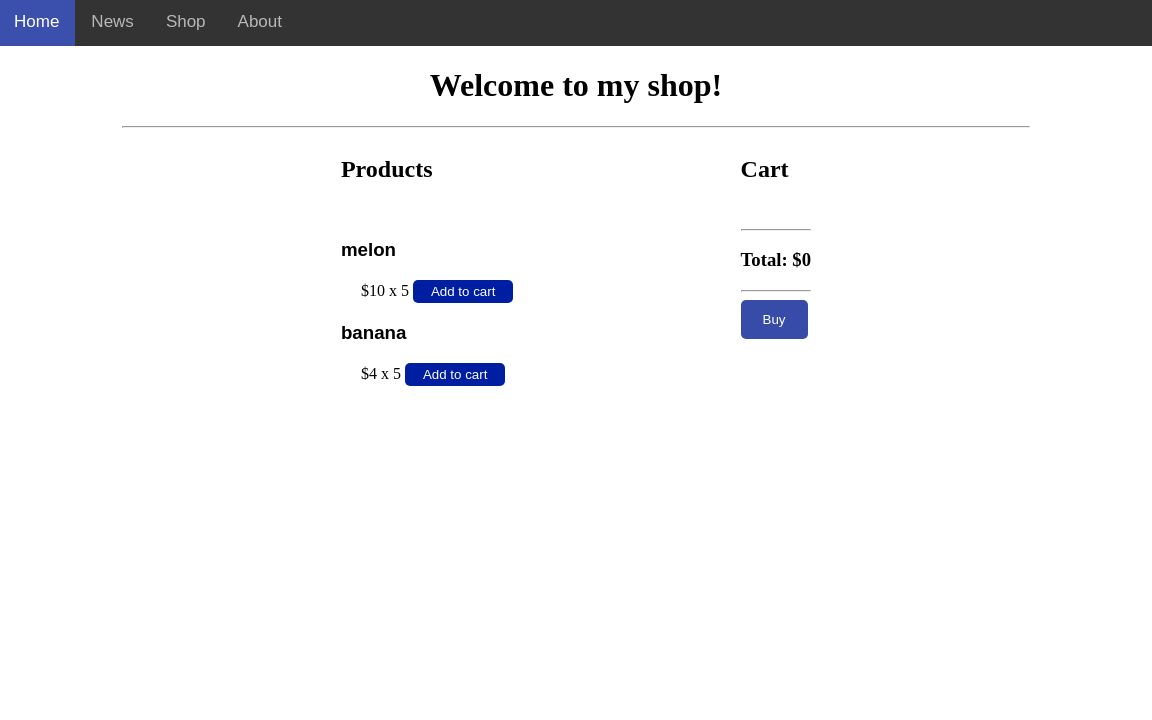
Scenario: Shop › Can buy from shop
The width and height of the screenshot is (1152, 720).
Step 1. Click the button with class "addToCartBtn" in the row of "10" → x=464, y=292, box x1=413 y1=280 x2=514 y2=303
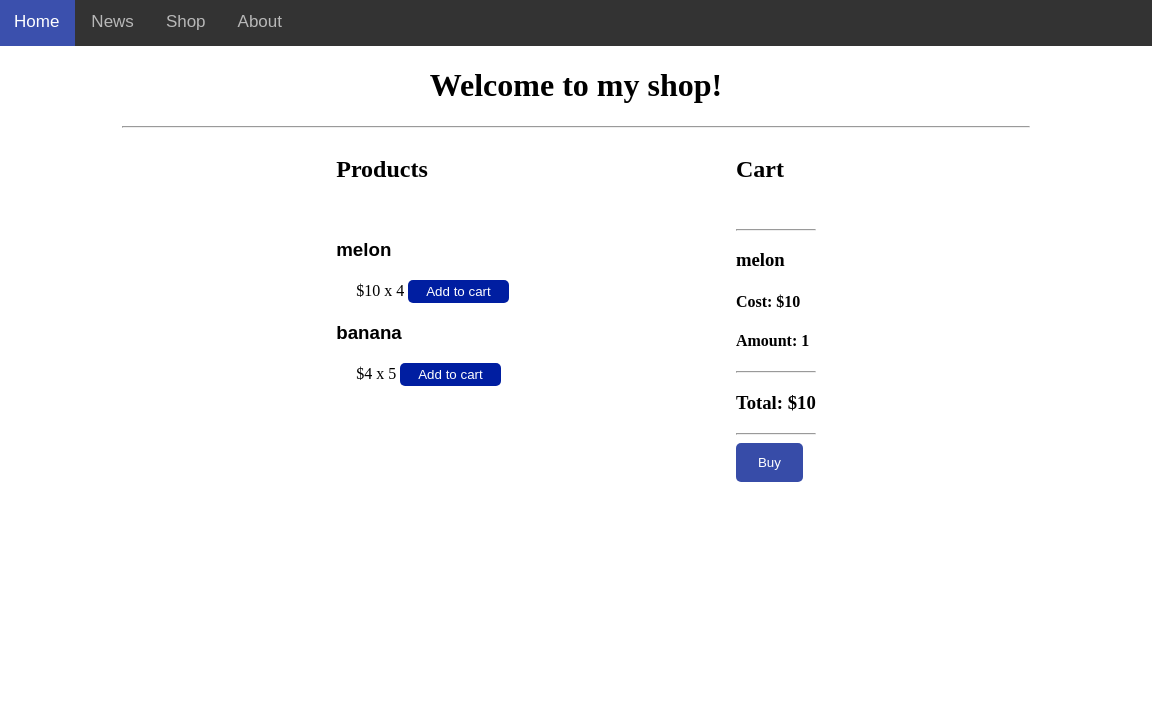
Step 2. Click the 1st button with class "addToCartBtn" → x=459, y=292, box x1=408 y1=280 x2=509 y2=303
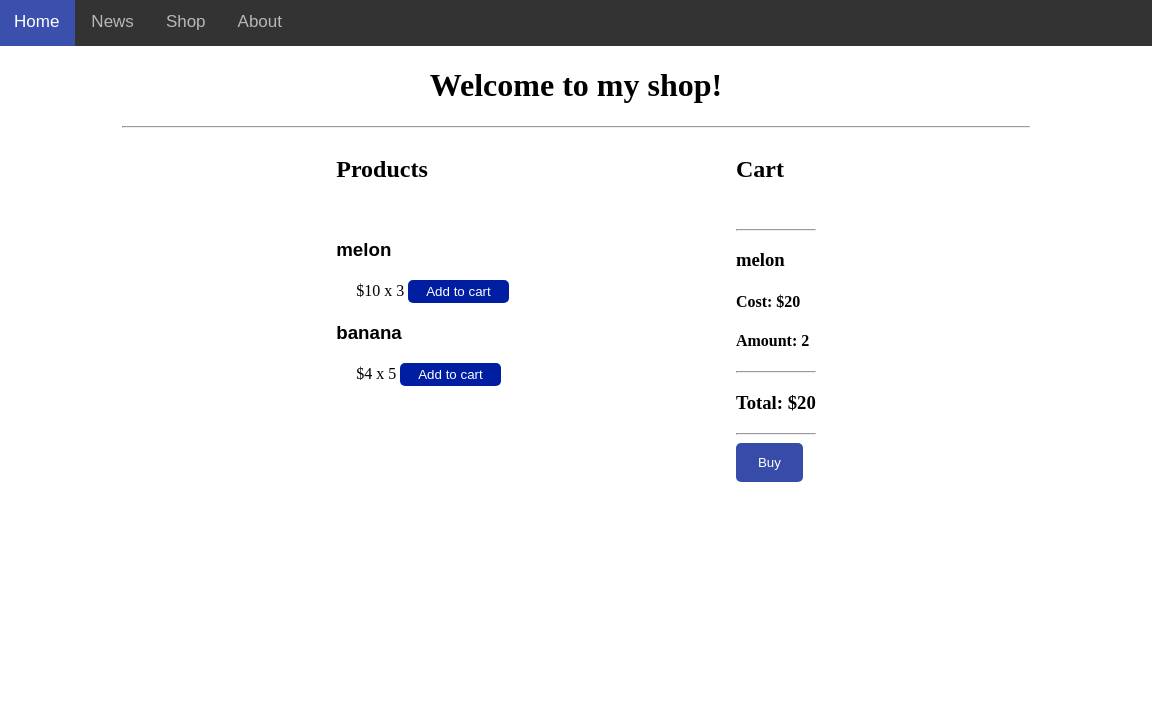
Step 3. Click the button with class "addToCartBtn" below "banana" → x=451, y=375, box x1=400 y1=363 x2=501 y2=386
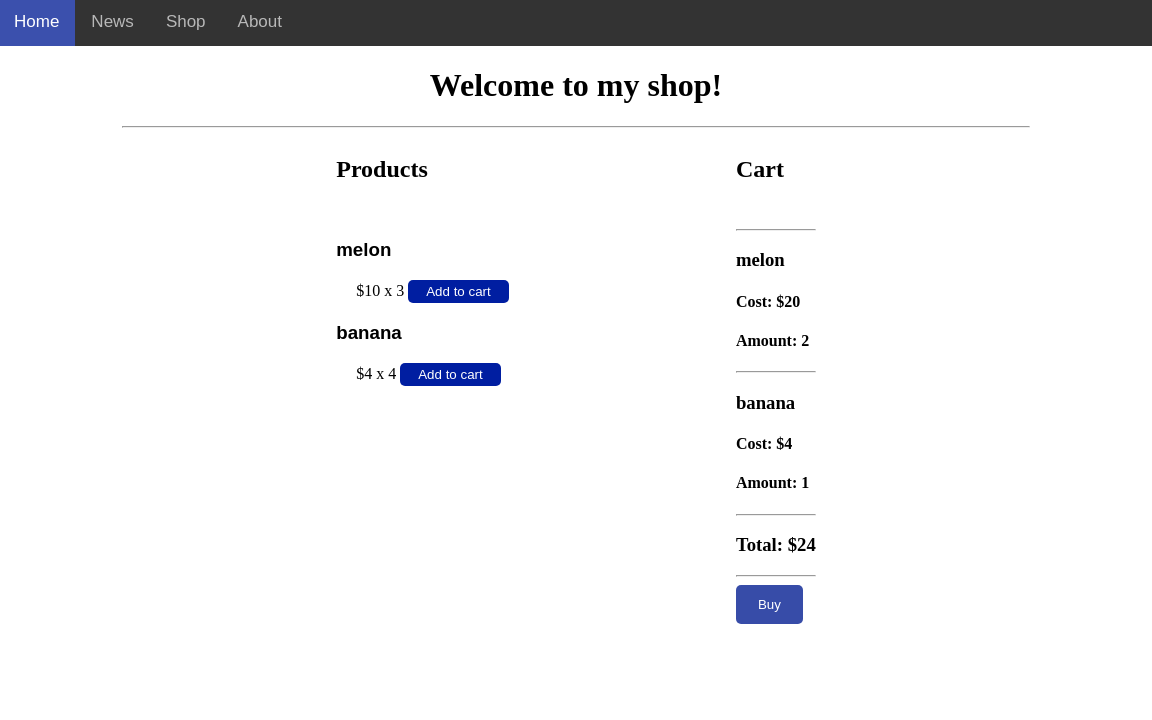
Step 4. Click the button with class "buyBtn" → x=770, y=605, box x1=736 y1=585 x2=803 y2=624
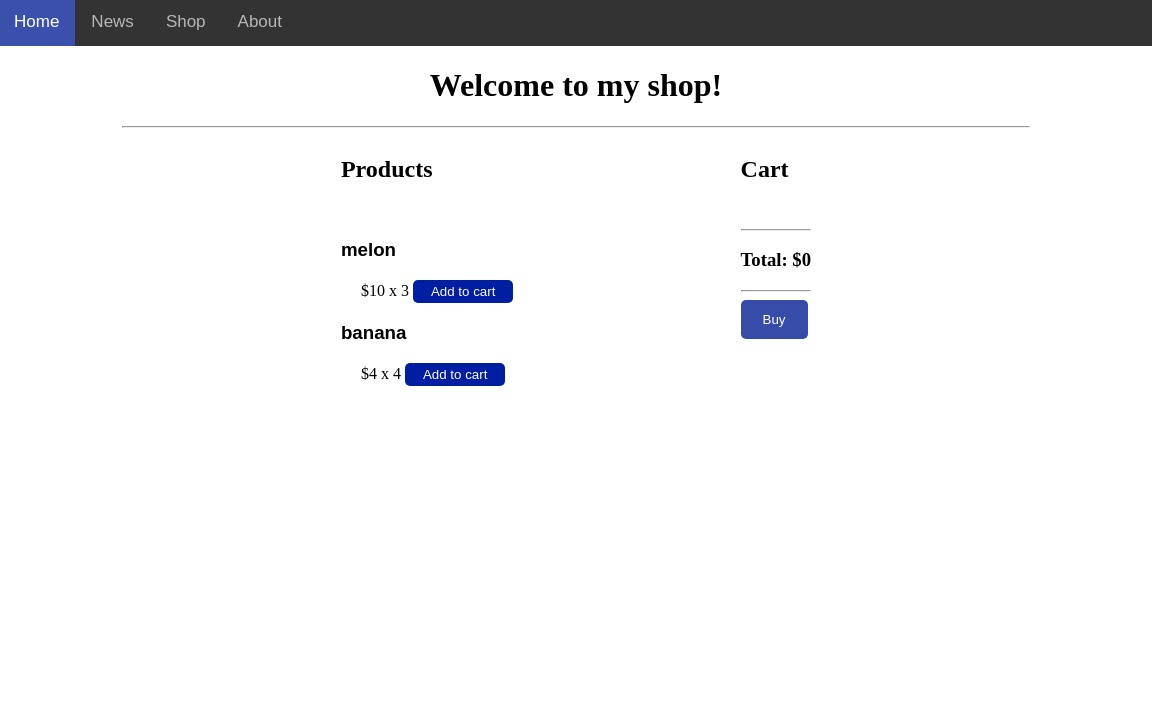
Now the heading "Total: $0" is shown, box x1=741 y1=249 x2=811 y2=271
